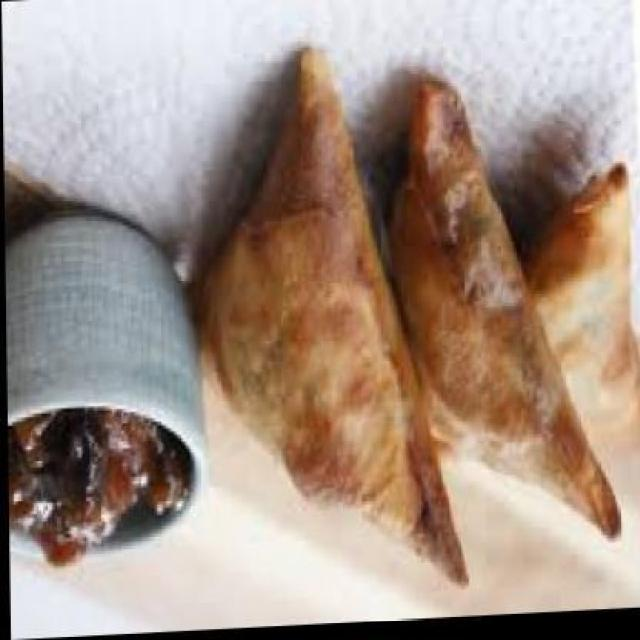samosa: (183, 45, 468, 604), (378, 72, 618, 557), (500, 166, 640, 537)
